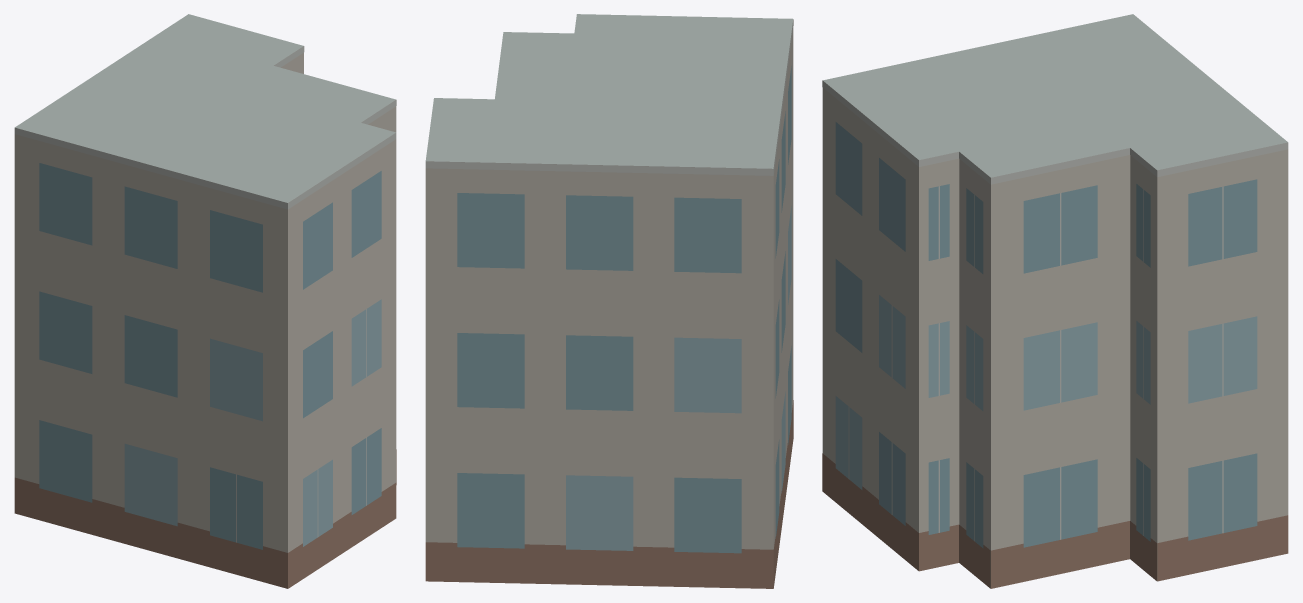
Rendered from survey-upis-32805421.glb.
3 renders of one model, left to right at view 1: azimuth 30°, elevation 25°; view 2: azimuth 150°, elevation 25°; view 3: azimuth 270°, elevation 25°, orthographic. The views are drawn at different scales.
Parts seen in each view (by area): view 1: survey-upis-32805421.tmp; view 2: survey-upis-32805421.tmp; view 3: survey-upis-32805421.tmp.
Boxes of the visible parts, x1=… form: survey-upis-32805421.tmp: x1=14, y1=14, x2=396, y2=588; survey-upis-32805421.tmp: x1=425, y1=14, x2=793, y2=588; survey-upis-32805421.tmp: x1=822, y1=14, x2=1288, y2=588.
Bounding box in the file's own units: 12.4 × 14.5 × 14.9.
